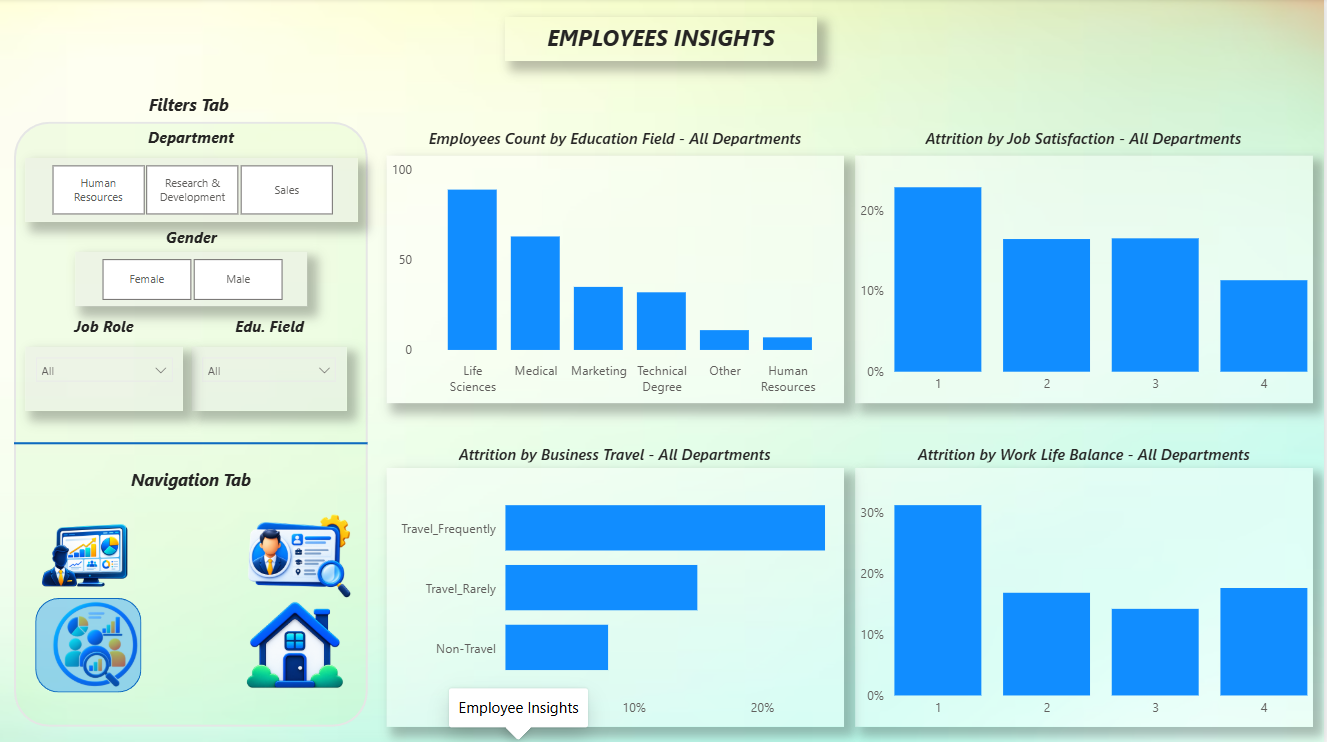

This screenshot's page, from the dashboard's own definition file:
{"tool":"powerbi","page":{"name":"Employee Insights","canvas":[1280,720],"ordinal":2},"visuals":[{"type":"clusteredColumnChart","title":"Attrition by Education Field","fields":{"Category":["hr_attrition_project hr_attrition.EducationField"],"Y":["Key Measures.Attrition count"]},"box":[374,152,441.6,238.9],"z":0},{"type":"clusteredBarChart","title":"Attrition by Business Travel","fields":{"Category":["hr_attrition_project hr_attrition.BusinessTravel"],"Y":["Key Measures.Attrition Rate"]},"box":[374,453.6,441.6,249.7],"z":1000},{"type":"clusteredColumnChart","title":"Attrition by Job Satisfaction","fields":{"Category":["hr_attrition_project hr_attrition.JobSatisfaction"],"Y":["Key Measures.Attrition Rate"]},"box":[826.4,152,441.6,238.9],"z":2000},{"type":"clusteredColumnChart","title":"Attrition by Work LifeBalance","fields":{"Category":["hr_attrition_project hr_attrition.WorkLifeBalance"],"Y":["Key Measures.Attrition Rate"]},"box":[826.4,453.6,441.6,249.7],"z":3000},{"type":"shape","box":[14.5,119.4,341.4,583.9],"z":4000},{"type":"slicer","fields":{"Values":["hr_attrition_project hr_attrition.Department"]},"box":[25.3,154.4,320.9,61.5],"z":5000},{"type":"slicer","fields":{"Values":["hr_attrition_project hr_attrition.Gender"]},"box":[73.6,244.9,224.4,53.1],"z":6000},{"type":"slicer","fields":{"Values":["hr_attrition_project hr_attrition.EducationField"]},"box":[185.8,336.6,149.6,61.5],"z":7000},{"type":"slicer","fields":{"Values":["hr_attrition_project hr_attrition.JobRole"]},"box":[25.3,336.6,152,61.5],"z":8000},{"type":"cardVisual","fields":{"Data":["Key Measures.Employee Insights Title"]},"box":[353.5,106.2,482.6,54.3],"z":9000},{"type":"cardVisual","fields":{"Data":["Key Measures.Job Satisfaction Title"]},"box":[830,106.2,433.1,54.3],"z":10000},{"type":"cardVisual","fields":{"Data":["Key Measures.Work Life Title"]},"box":[826.4,411.4,441.6,54.3],"z":11000},{"type":"cardVisual","fields":{"Data":["Key Measures.Business Travel Title"]},"box":[383.6,411.4,421,54.3],"z":12000},{"type":"textbox","box":[137.5,119.4,95.3,35],"z":13000},{"type":"textbox","box":[153.2,216,65.1,35],"z":14000},{"type":"textbox","box":[59.1,301.6,84.5,35],"z":15000},{"type":"textbox","box":[220.8,301.6,80.8,35],"z":16000},{"type":"textbox","box":[35,86.9,300.4,32.6],"z":17000},{"type":"textbox","box":[488.6,18.1,300.4,42.2],"z":18000},{"type":"image","box":[25,495,118.8,87.5],"z":19000},{"type":"image","box":[228.8,495,117,87.5],"z":20000},{"type":"image","box":[35,582.5,117,87],"z":21000},{"type":"shape","box":[15,405,341.2,48.8],"z":22000},{"type":"textbox","box":[35,448.8,300.4,32.6],"z":23000},{"type":"image","box":[228.8,582.5,112.5,87.5],"z":23001},{"type":"shape","box":[35,578.8,102.5,91.2],"z":23002}]}

Visuals, with their boxes in screenshot pixels (x1, y1, x2, y2), scaled from the page's 1280x720 canvas onto the 1327x742 screenshot:
"Attrition by Education Field" clusteredColumnChart: region(388, 157, 846, 403)
"Attrition by Business Travel" clusteredBarChart: region(388, 467, 846, 725)
"Attrition by Job Satisfaction" clusteredColumnChart: region(857, 157, 1315, 403)
"Attrition by Work LifeBalance" clusteredColumnChart: region(857, 467, 1315, 725)
shape: region(15, 123, 369, 725)
slicer - hr_attrition_project hr_attrition.Department: region(26, 159, 359, 222)
slicer - hr_attrition_project hr_attrition.Gender: region(76, 252, 309, 307)
slicer - hr_attrition_project hr_attrition.EducationField: region(193, 347, 348, 410)
slicer - hr_attrition_project hr_attrition.JobRole: region(26, 347, 184, 410)
cardVisual - Key Measures.Employee Insights Title: region(366, 109, 867, 165)
cardVisual - Key Measures.Job Satisfaction Title: region(860, 109, 1309, 165)
cardVisual - Key Measures.Work Life Title: region(857, 424, 1315, 480)
cardVisual - Key Measures.Business Travel Title: region(398, 424, 834, 480)
textbox: region(143, 123, 241, 159)
textbox: region(159, 223, 226, 259)
textbox: region(61, 311, 149, 347)
textbox: region(229, 311, 313, 347)
textbox: region(36, 90, 348, 123)
textbox: region(507, 19, 818, 62)
image: region(26, 510, 149, 600)
image: region(237, 510, 358, 600)
image: region(36, 600, 158, 690)
shape: region(16, 417, 369, 468)
textbox: region(36, 463, 348, 496)
image: region(237, 600, 354, 690)
shape: region(36, 596, 143, 690)
